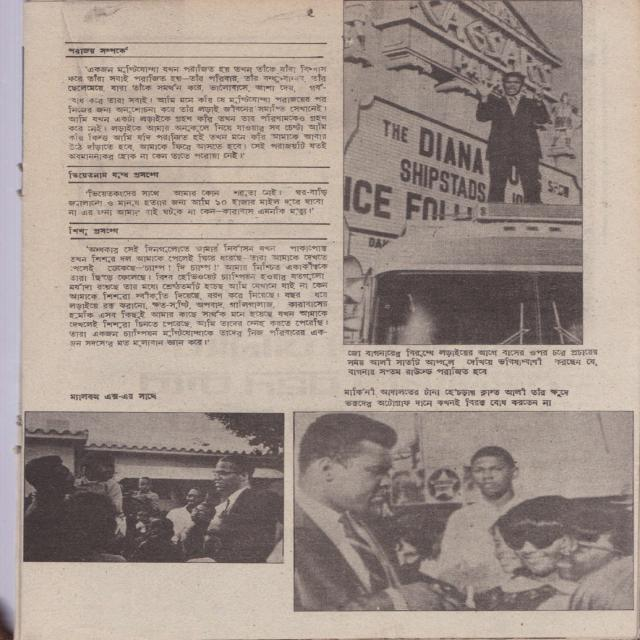caption: (346, 347, 599, 376), (342, 386, 570, 408), (69, 392, 158, 402)
image: (342, 0, 584, 346), (293, 411, 634, 612), (23, 410, 285, 564)
paragraph: (68, 243, 329, 348), (66, 64, 328, 161), (66, 187, 330, 218)
title: (67, 170, 161, 180), (67, 45, 131, 56), (67, 226, 120, 236)
